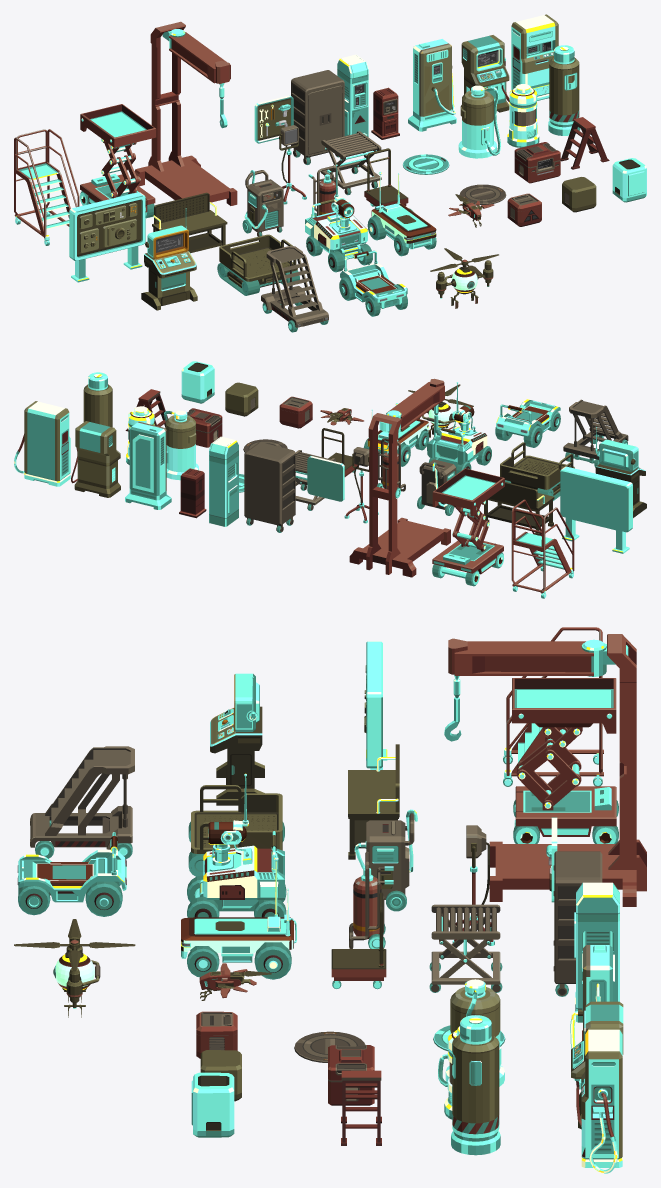
Rendered from Low_Poly_Sci-Fi_Hangar_Environment.glb.
3 views of the same model, one above another, from view 1: azimuth 30°, elevation 25°; view 2: azimuth 150°, elevation 25°; view 3: azimuth 270°, elevation 25° (orthographic). The views are drawn at different scales.
Visible parts, largest first — view 1: Retro_Hangar_Crane_Arm_Cosmic_Retro_Hangar_Props_0, Retro_Hangar_Control_Panel_Cosmic_Retro_Hangar_Props_0, Retro_Hangar_Command_Console_Cosmic_Retro_Hangar_Props_0, Retro_Hangar_Pump_Fuel_A_Cosmic_Retro_Hangar_Props_0, Retro_Hangar_Staircase_Small_Cosmic_Retro_Hangar_Props_0, Retro_Hangar_Pump_Fuel_C_Cosmic_Retro_Hangar_Props_0, Retro_Hangar_Stairs_Wheeled_Cosmic_Retro_Hangar_Props_0, Retro_Hangar_Bench_Cosmic_Retro_Hangar_Props_0, Retro_Hangar_Tank_Water_Cosmic_Retro_Hangar_Props_0, Retro_Hangar_Pump_Control_Cosmic_Retro_Hangar_Props_0, Retro_Hangar_Pump_Fuel_B_Cosmic_Retro_Hangar_Props_0, Retro_Hangar_Vehicle_Transport_Cosmic_Retro_Hangar_Props_0 (+29 smaller); view 2: Retro_Hangar_Crane_Arm_Cosmic_Retro_Hangar_Props_0, Retro_Hangar_Control_Panel_Cosmic_Retro_Hangar_Props_0, Retro_Hangar_Cabinet_Double_Cosmic_Retro_Hangar_Props_0, Retro_Hangar_Pump_Fuel_C_Cosmic_Retro_Hangar_Props_0, Retro_Hangar_Pump_Fuel_A_Cosmic_Retro_Hangar_Props_0, Retro_Hangar_Pump_Control_Cosmic_Retro_Hangar_Props_0, Retro_Hangar_Staircase_Small_Cosmic_Retro_Hangar_Props_0, Retro_Hangar_Fuel_Control_Unit_A_Cosmic_Retro_Hangar_Props_0, Retro_Hangar_Stairs_Wheeled_Cosmic_Retro_Hangar_Props_0, Retro_Hangar_Lift_Table_Up_Cosmic_Retro_Hangar_Props_0, Retro_Hangar_Bench_Cosmic_Retro_Hangar_Props_0, Retro_Hangar_Vehicle_Transport_Cosmic_Retro_Hangar_Props_0 (+25 smaller); view 3: Retro_Hangar_Crane_Arm_Cosmic_Retro_Hangar_Props_0, Retro_Hangar_Stairs_Wheeled_Cosmic_Retro_Hangar_Props_0, Retro_Hangar_Pump_Fuel_B_Cosmic_Retro_Hangar_Props_0, Retro_Hangar_Pump_Fuel_C_Cosmic_Retro_Hangar_Props_0, Retro_Hangar_Crane_Arm1_Cosmic_Retro_Hangar_Props_0, Retro_Hangar_Lift_Table_Up_Cosmic_Retro_Hangar_Props_0, Retro_Hangar_Robot_Scout_Cosmic_Retro_Hangar_Props_0, Retro_Hangar_Command_Console_Cosmic_Retro_Hangar_Props_0, Retro_Hangar_Roller_Table_Cosmic_Retro_Hangar_Props_0, Retro_Hangar_Vehicle_Flatbed_Cosmic_Retro_Hangar_Props_0, Retro_Hangar_Lift_Table_Cosmic_Retro_Hangar_Props_0, Retro_Hangar_Vehicle_Cargo_Cosmic_Retro_Hangar_Props_0 (+28 smaller).
Boxes of the visible parts, left/top/right/bottom form: Retro_Hangar_Crane_Arm_Cosmic_Retro_Hangar_Props_0: left=130, top=21, right=237, bottom=205; Retro_Hangar_Control_Panel_Cosmic_Retro_Hangar_Props_0: left=69, top=192, right=145, bottom=282; Retro_Hangar_Command_Console_Cosmic_Retro_Hangar_Props_0: left=141, top=208, right=197, bottom=310; Retro_Hangar_Pump_Fuel_A_Cosmic_Retro_Hangar_Props_0: left=408, top=39, right=456, bottom=131; Retro_Hangar_Staircase_Small_Cosmic_Retro_Hangar_Props_0: left=14, top=129, right=79, bottom=245; Retro_Hangar_Pump_Fuel_C_Cosmic_Retro_Hangar_Props_0: left=511, top=14, right=558, bottom=100; Retro_Hangar_Stairs_Wheeled_Cosmic_Retro_Hangar_Props_0: left=261, top=246, right=328, bottom=327; Retro_Hangar_Bench_Cosmic_Retro_Hangar_Props_0: left=152, top=192, right=227, bottom=253; Retro_Hangar_Tank_Water_Cosmic_Retro_Hangar_Props_0: left=458, top=85, right=500, bottom=158; Retro_Hangar_Pump_Control_Cosmic_Retro_Hangar_Props_0: left=460, top=35, right=509, bottom=112; Retro_Hangar_Pump_Fuel_B_Cosmic_Retro_Hangar_Props_0: left=548, top=45, right=580, bottom=135; Retro_Hangar_Vehicle_Transport_Cosmic_Retro_Hangar_Props_0: left=219, top=234, right=297, bottom=287; Retro_Hangar_Crane_Arm_Cosmic_Retro_Hangar_Props_0: left=349, top=410, right=450, bottom=577; Retro_Hangar_Control_Panel_Cosmic_Retro_Hangar_Props_0: left=560, top=466, right=632, bottom=553; Retro_Hangar_Cabinet_Double_Cosmic_Retro_Hangar_Props_0: left=244, top=442, right=295, bottom=532; Retro_Hangar_Pump_Fuel_C_Cosmic_Retro_Hangar_Props_0: left=14, top=401, right=70, bottom=486; Retro_Hangar_Pump_Fuel_A_Cosmic_Retro_Hangar_Props_0: left=125, top=421, right=171, bottom=509; Retro_Hangar_Pump_Control_Cosmic_Retro_Hangar_Props_0: left=71, top=421, right=120, bottom=497; Retro_Hangar_Staircase_Small_Cosmic_Retro_Hangar_Props_0: left=511, top=499, right=574, bottom=598; Retro_Hangar_Fuel_Control_Unit_A_Cosmic_Retro_Hangar_Props_0: left=209, top=436, right=238, bottom=526; Retro_Hangar_Stairs_Wheeled_Cosmic_Retro_Hangar_Props_0: left=563, top=399, right=628, bottom=463; Retro_Hangar_Lift_Table_Up_Cosmic_Retro_Hangar_Props_0: left=432, top=468, right=504, bottom=516; Retro_Hangar_Bench_Cosmic_Retro_Hangar_Props_0: left=484, top=482, right=554, bottom=535; Retro_Hangar_Vehicle_Transport_Cosmic_Retro_Hangar_Props_0: left=500, top=442, right=574, bottom=495; Retro_Hangar_Crane_Arm_Cosmic_Retro_Hangar_Props_0: left=489, top=634, right=646, bottom=906; Retro_Hangar_Stairs_Wheeled_Cosmic_Retro_Hangar_Props_0: left=30, top=746, right=134, bottom=849; Retro_Hangar_Pump_Fuel_B_Cosmic_Retro_Hangar_Props_0: left=451, top=1015, right=500, bottom=1155; Retro_Hangar_Pump_Fuel_C_Cosmic_Retro_Hangar_Props_0: left=581, top=1027, right=622, bottom=1173; Retro_Hangar_Crane_Arm1_Cosmic_Retro_Hangar_Props_0: left=444, top=638, right=593, bottom=741; Retro_Hangar_Lift_Table_Up_Cosmic_Retro_Hangar_Props_0: left=512, top=678, right=616, bottom=735; Retro_Hangar_Robot_Scout_Cosmic_Retro_Hangar_Props_0: left=199, top=831, right=284, bottom=911; Retro_Hangar_Command_Console_Cosmic_Retro_Hangar_Props_0: left=210, top=673, right=264, bottom=805; Retro_Hangar_Roller_Table_Cosmic_Retro_Hangar_Props_0: left=429, top=904, right=502, bottom=992; Retro_Hangar_Vehicle_Flatbed_Cosmic_Retro_Hangar_Props_0: left=181, top=856, right=296, bottom=962; Retro_Hangar_Lift_Table_Cosmic_Retro_Hangar_Props_0: left=514, top=786, right=616, bottom=836; Retro_Hangar_Vehicle_Cargo_Cosmic_Retro_Hangar_Props_0: left=17, top=832, right=126, bottom=902.
Size of the model in its own units: 14.35 by 4.32 by 8.98.
1 material, 1 textured.
